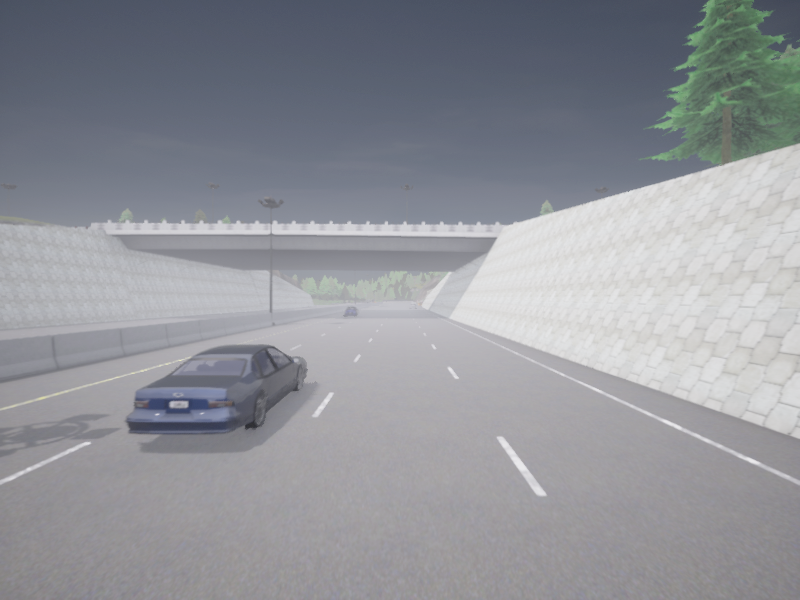vehicle: (125, 344, 307, 433), (345, 306, 358, 316), (409, 303, 415, 308)
